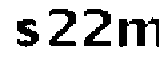2: (46, 7, 79, 51), (82, 6, 114, 50)
m: (113, 14, 160, 52)
s: (13, 20, 42, 49)
